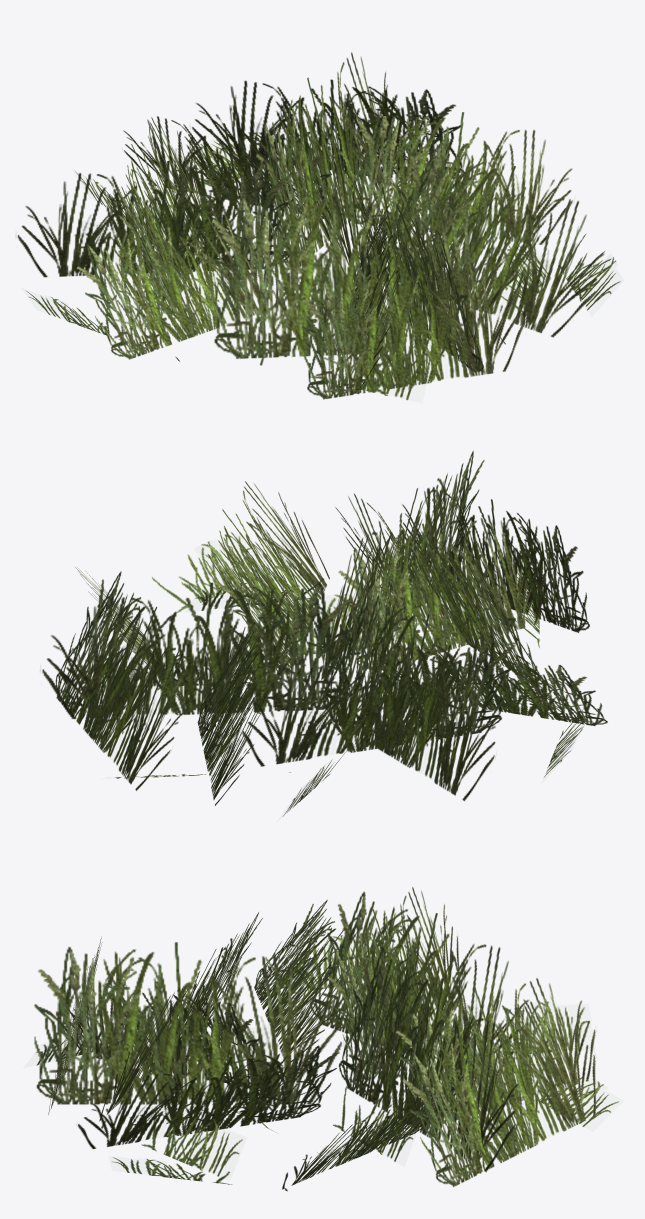
The model's file is grass_medium.glb.
3 views of the same model, one above another, from view 1: azimuth 30°, elevation 25°; view 2: azimuth 150°, elevation 25°; view 3: azimuth 270°, elevation 25° (orthographic). The views are drawn at different scales.
Visible parts, largest first — view 1: grass3.001; view 2: grass3.001; view 3: grass3.001.
Part boxes in pixels (left/top/right/bottom): grass3.001: left=17, top=52, right=620, bottom=400; grass3.001: left=42, top=450, right=607, bottom=816; grass3.001: left=34, top=887, right=619, bottom=1191.
Size of the model in its own units: 3.21 by 0.8688 by 3.27.
1 material, 1 textured.
